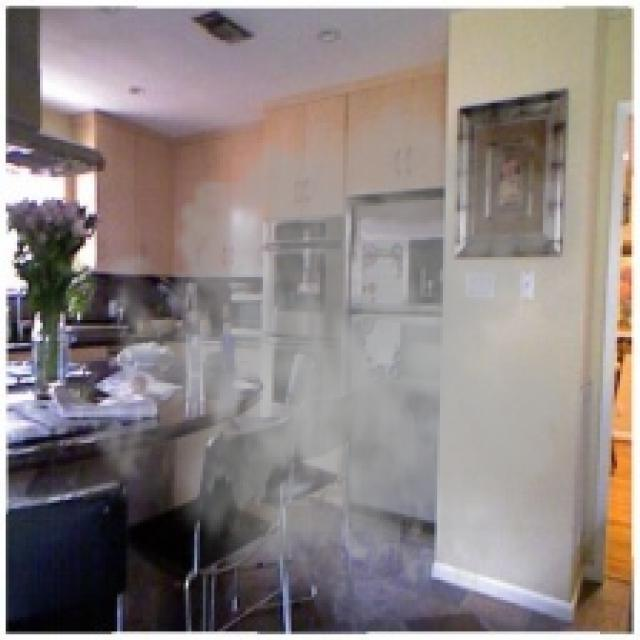Smoke: (72, 77, 598, 629)
